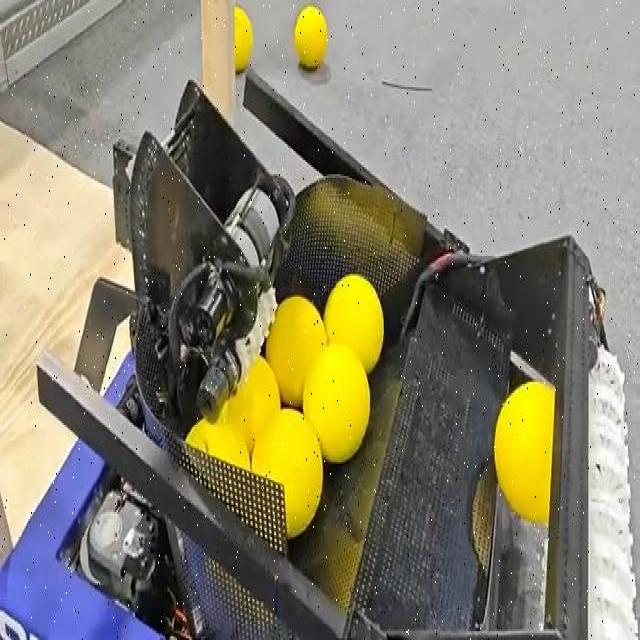Fuel: (252, 409, 322, 537), (494, 380, 555, 520), (494, 380, 554, 522), (303, 345, 369, 462), (266, 296, 328, 406), (265, 295, 326, 405), (324, 274, 383, 372), (226, 356, 280, 452), (185, 418, 249, 469), (294, 5, 327, 68), (234, 6, 253, 72), (234, 5, 252, 71)
